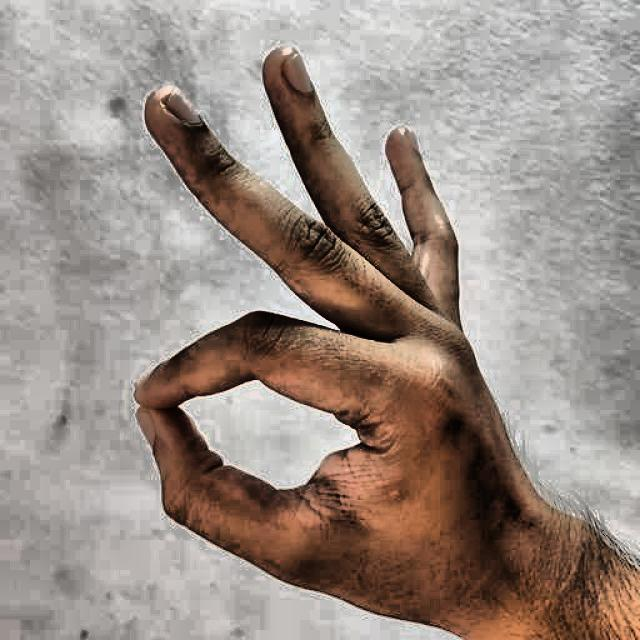Ca: (106, 36, 569, 640)
